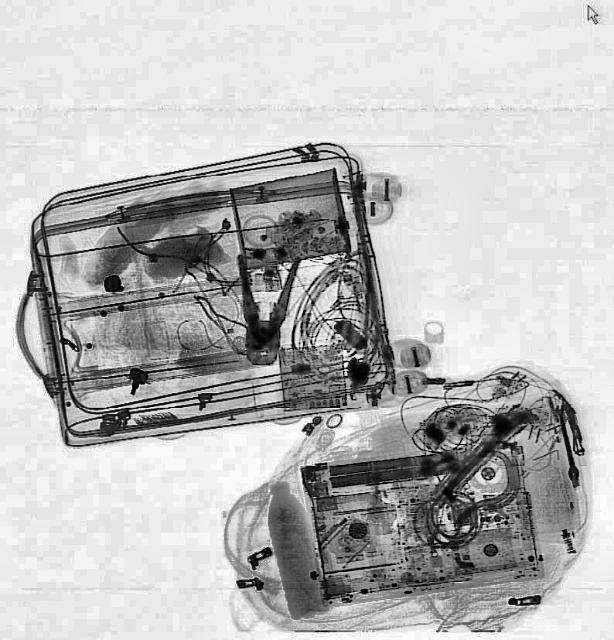Pliers: (230, 254, 298, 366)
